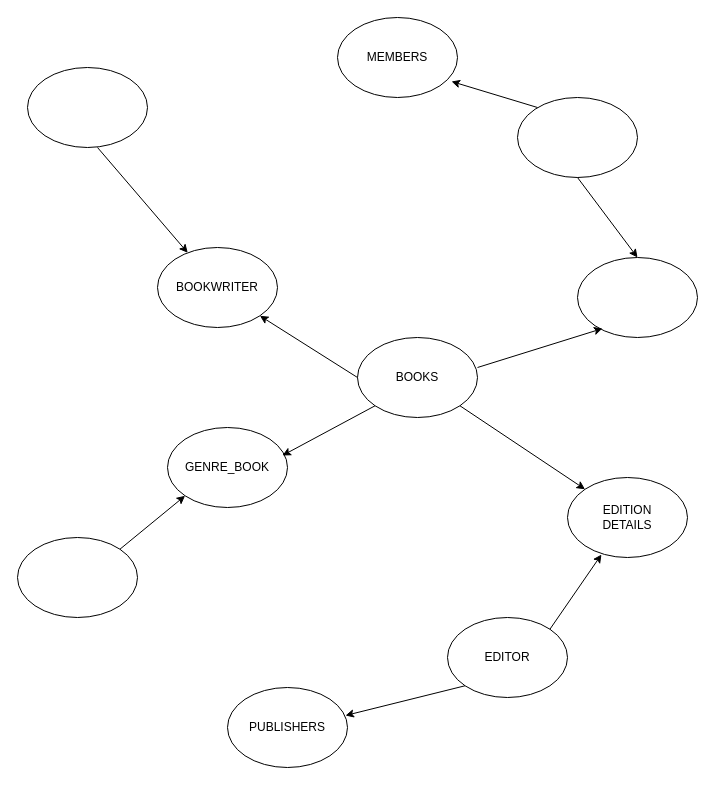
Some shapes in this 715 by 785 pixel diagram are drawn without their labels. The shapes that lost their labels are listed below. From the top down, each one's centre as x and y in pixels, then its label:
the point at 87,107: WRITER
the point at 577,137: BOOKS TRANSACTIONS
the point at 637,297: TRANSACTION DETAILS
the point at 77,577: GENRE
